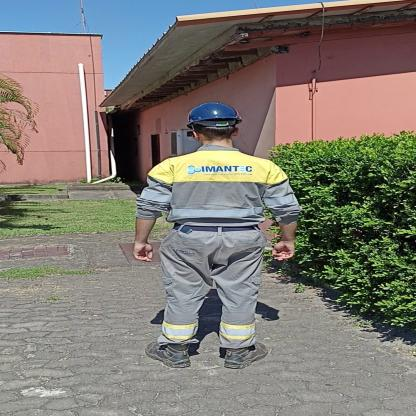Capacete: (187, 100, 240, 126)
